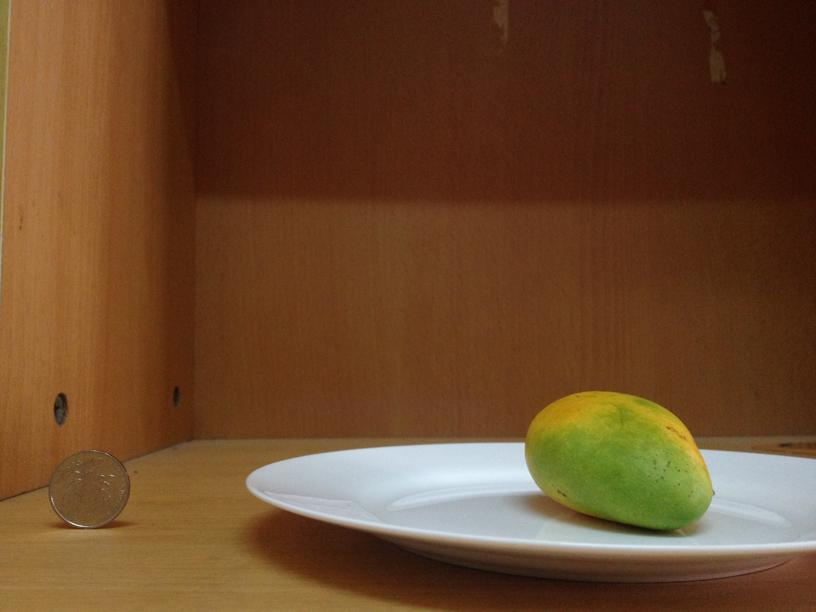coin: (50, 452, 131, 527)
mango: (523, 388, 714, 530)
